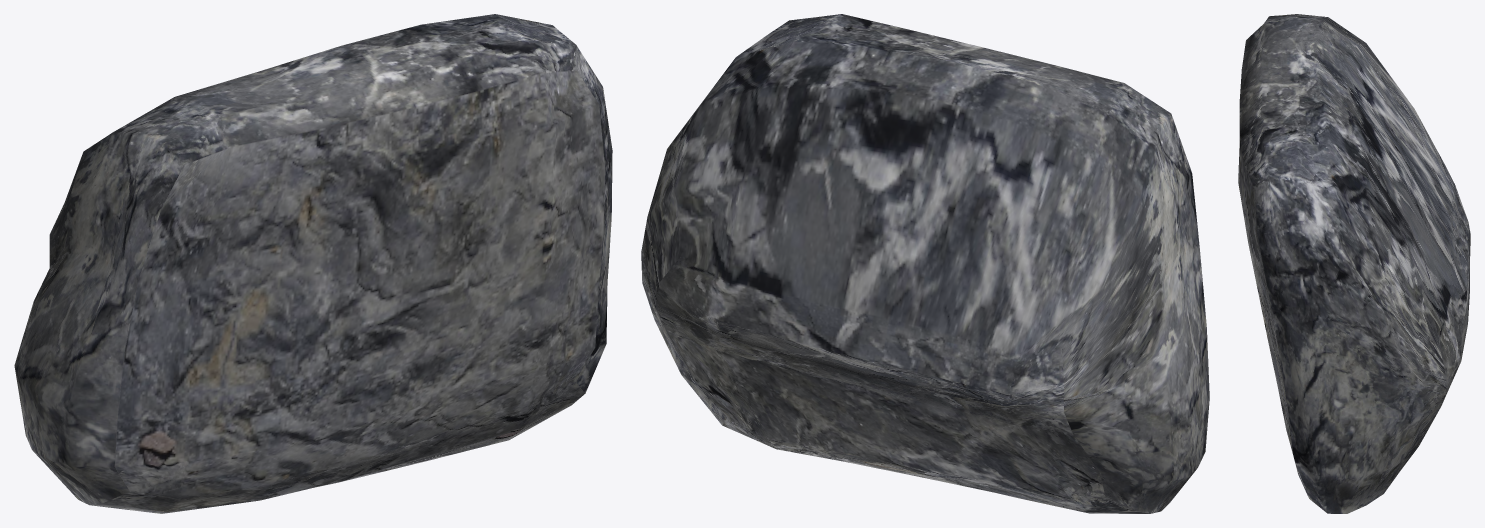
The model's file is rock3.fbx.
3 views of the same model, side by side, from view 1: azimuth 30°, elevation 25°; view 2: azimuth 150°, elevation 25°; view 3: azimuth 270°, elevation 25° (orthographic). The views are drawn at different scales.
Visible parts, largest first — view 1: pCube4; view 2: pCube4; view 3: pCube4.
Part boxes in pixels (x1,y1,x2,y2): pCube4: [14, 14, 612, 513]; pCube4: [641, 14, 1209, 513]; pCube4: [1238, 14, 1470, 513].
Size of the model in its own units: 2.81 by 2.1 by 1.23.
1 material, 1 textured.
